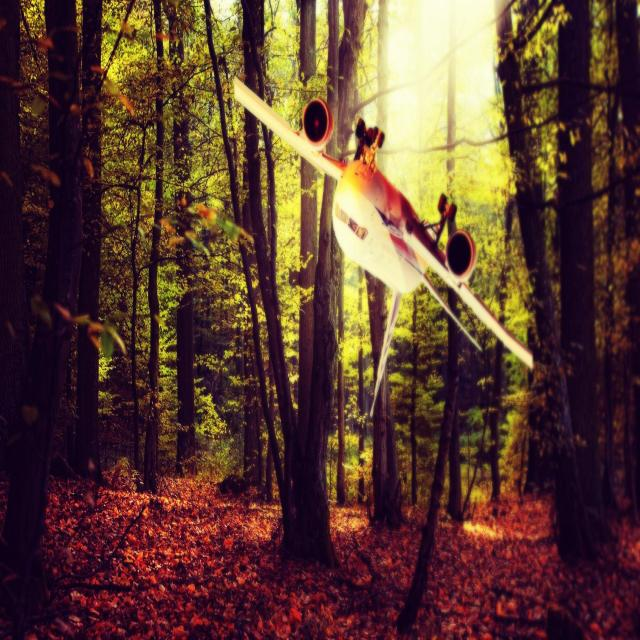airplane: (232, 74, 534, 412)
